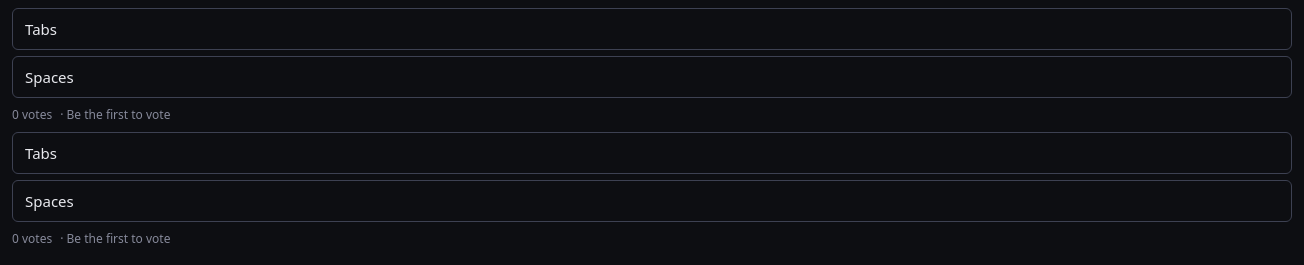
Test: PollWidget: one poll shown twice › shows a vote on its way, and then the vote, in both
This screenshot has width=1304, height=265.
Expected: the 2nd text "0 votes" is shown, [12, 230, 52, 248]
What coordinates should you click on to do the following:
click the 1st button "Tabs"
I would click on:
 (41, 29)
Its box is [12, 8, 1292, 50].
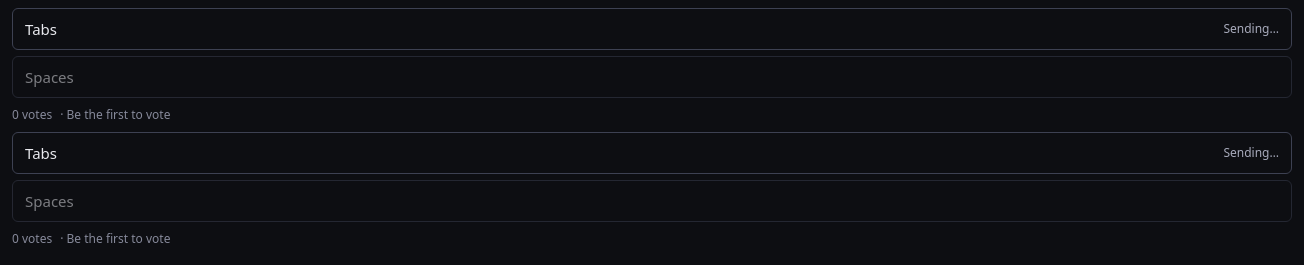
Now the 2nd button "Tabs Sending…" has attribute aria-busy="true", box [12, 132, 1292, 174]
What coordinates should you click on to do the following:
click the 2nd button "Spaces"
I would click on:
 (49, 201)
Its box is [12, 180, 1292, 222].
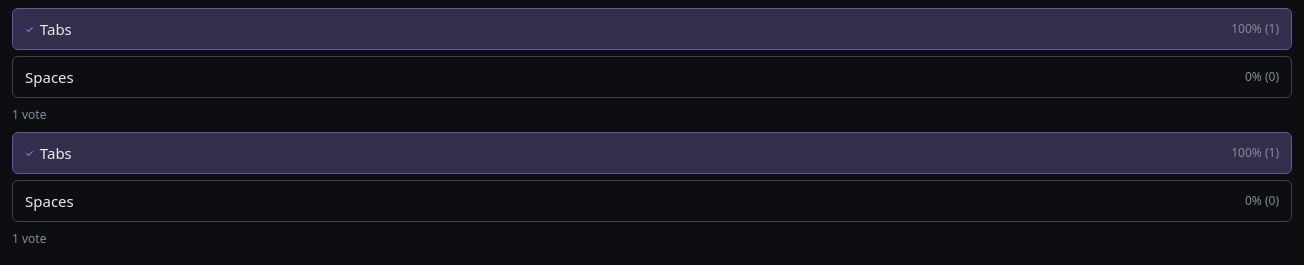
Now the 2nd text titled "Your vote" is shown, box [25, 146, 34, 160]
Now the 1st text titled "Your vote" is shown, box [25, 22, 34, 36]
Now the 2nd text "1 vote" is shown, box [12, 230, 46, 248]
